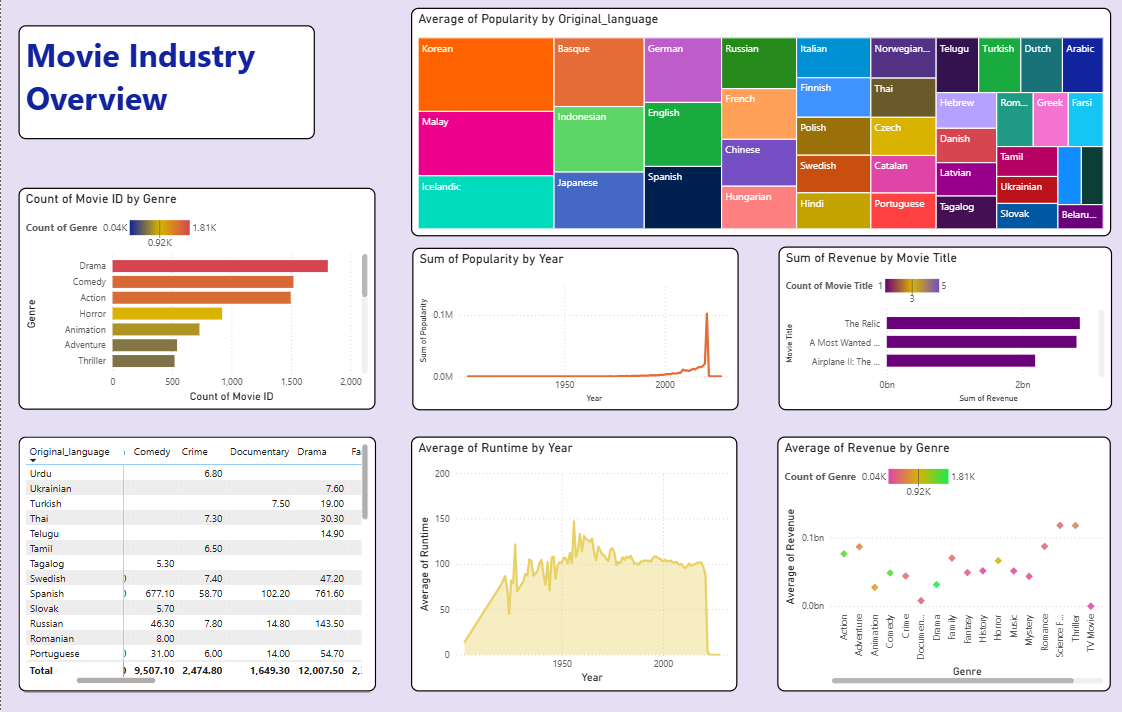

The dashboard page shown, as its layout file describes it:
{"tool":"powerbi","page":{"name":"Page 1","canvas":[1500,1280],"ordinal":0},"visuals":[{"type":"clusteredBarChart","fields":{"Category":["Movie_Details.Genre"],"Y":["CountNonNull(Movie_Details.Movie ID)"]},"box":[23.3,251.7,476.2,296.4],"z":0},{"type":"textbox","box":[23.3,35,395,151.7],"z":1000},{"type":"lineChart","fields":{"Category":["Movie_Details.Release Date.Variation.Date Hierarchy.Year"],"Y":["Sum(Movie_Details.Popularity)"]},"box":[548.3,331.7,435,216.7],"z":2000},{"type":"clusteredBarChart","fields":{"Category":["Movie_Details.Movie Title"],"Y":["Sum(Movie_Details.Revenue)"]},"box":[1036.7,330,445,218.3],"z":3000},{"type":"pivotTable","fields":{"Rows":["Movie_Details.Original_language"],"Columns":["Movie_Details.Genre"],"Values":["Sum(Movie_Details.Rating)"]},"box":[23.3,583.3,476.7,340],"z":4000},{"type":"areaChart","fields":{"Y":["Avg(Movie_Details.Runtime)"],"Category":["Movie_Details.Release Date.Variation.Date Hierarchy.Year"]},"box":[546.7,583.3,435,340],"z":5000},{"type":"scatterChart","fields":{"X":["Movie_Details.Genre"],"Y":["Avg(Movie_Details.Revenue)"]},"box":[1035,583.3,445,340],"z":6000},{"type":"treemap","fields":{"Group":["Movie_Details.Original_language"],"Values":["Avg(Movie_Details.Popularity)"]},"box":[546.7,11.7,933.3,305],"z":6001}]}

Visuals, with their boxes on the page's 1500x1280 design canvas (x1, y1, x2, y2). These are canvas units, not pixel positions in the 1122x712 screenshot, which may show the page scaled, cropped or inside an application window:
clusteredBarChart - Movie_Details.Genre x CountNonNull(Movie_Details.Movie ID): Rect(23, 252, 500, 548)
textbox: Rect(23, 35, 418, 187)
lineChart - Movie_Details.Release Date.Variation.Date Hierarchy.Year x Sum(Movie_Details.Popularity): Rect(548, 332, 983, 548)
clusteredBarChart - Movie_Details.Movie Title x Sum(Movie_Details.Revenue): Rect(1037, 330, 1482, 548)
pivotTable - Movie_Details.Original_language x Movie_Details.Genre: Rect(23, 583, 500, 923)
areaChart - Avg(Movie_Details.Runtime) x Movie_Details.Release Date.Variation.Date Hierarchy.Year: Rect(547, 583, 982, 923)
scatterChart - Movie_Details.Genre x Avg(Movie_Details.Revenue): Rect(1035, 583, 1480, 923)
treemap - Movie_Details.Original_language x Avg(Movie_Details.Popularity): Rect(547, 12, 1480, 317)
